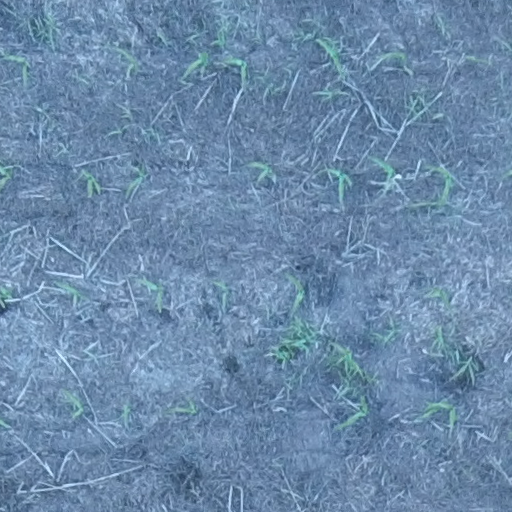planta: (313, 35, 346, 79), (424, 164, 455, 210), (336, 394, 371, 430), (420, 400, 459, 428), (139, 278, 165, 314), (285, 273, 306, 316), (324, 167, 353, 198), (222, 55, 249, 87), (181, 50, 208, 81), (369, 155, 397, 182), (114, 46, 140, 74), (124, 165, 146, 198), (56, 279, 87, 302), (247, 160, 275, 185), (424, 286, 452, 311), (168, 395, 200, 416), (81, 169, 102, 197), (64, 390, 84, 419), (213, 279, 231, 303), (464, 54, 495, 66), (380, 50, 408, 63)
